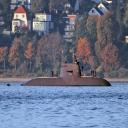submarine: (20, 63, 114, 87)
